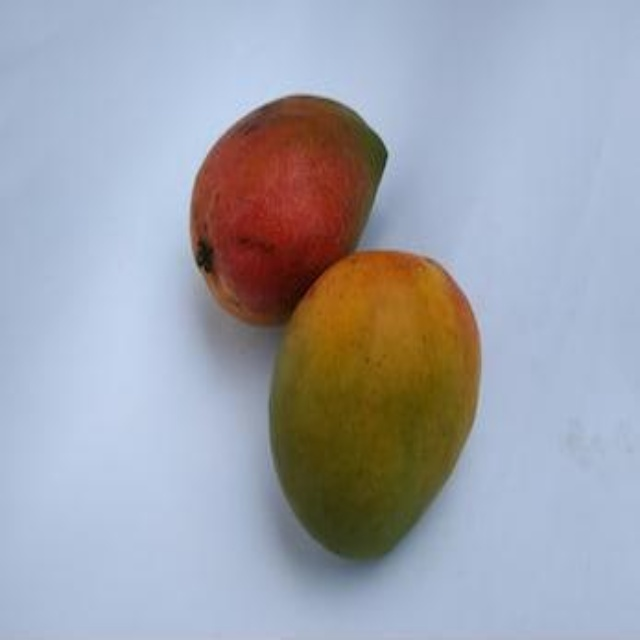mango: (272, 254, 490, 557), (193, 83, 379, 321)
